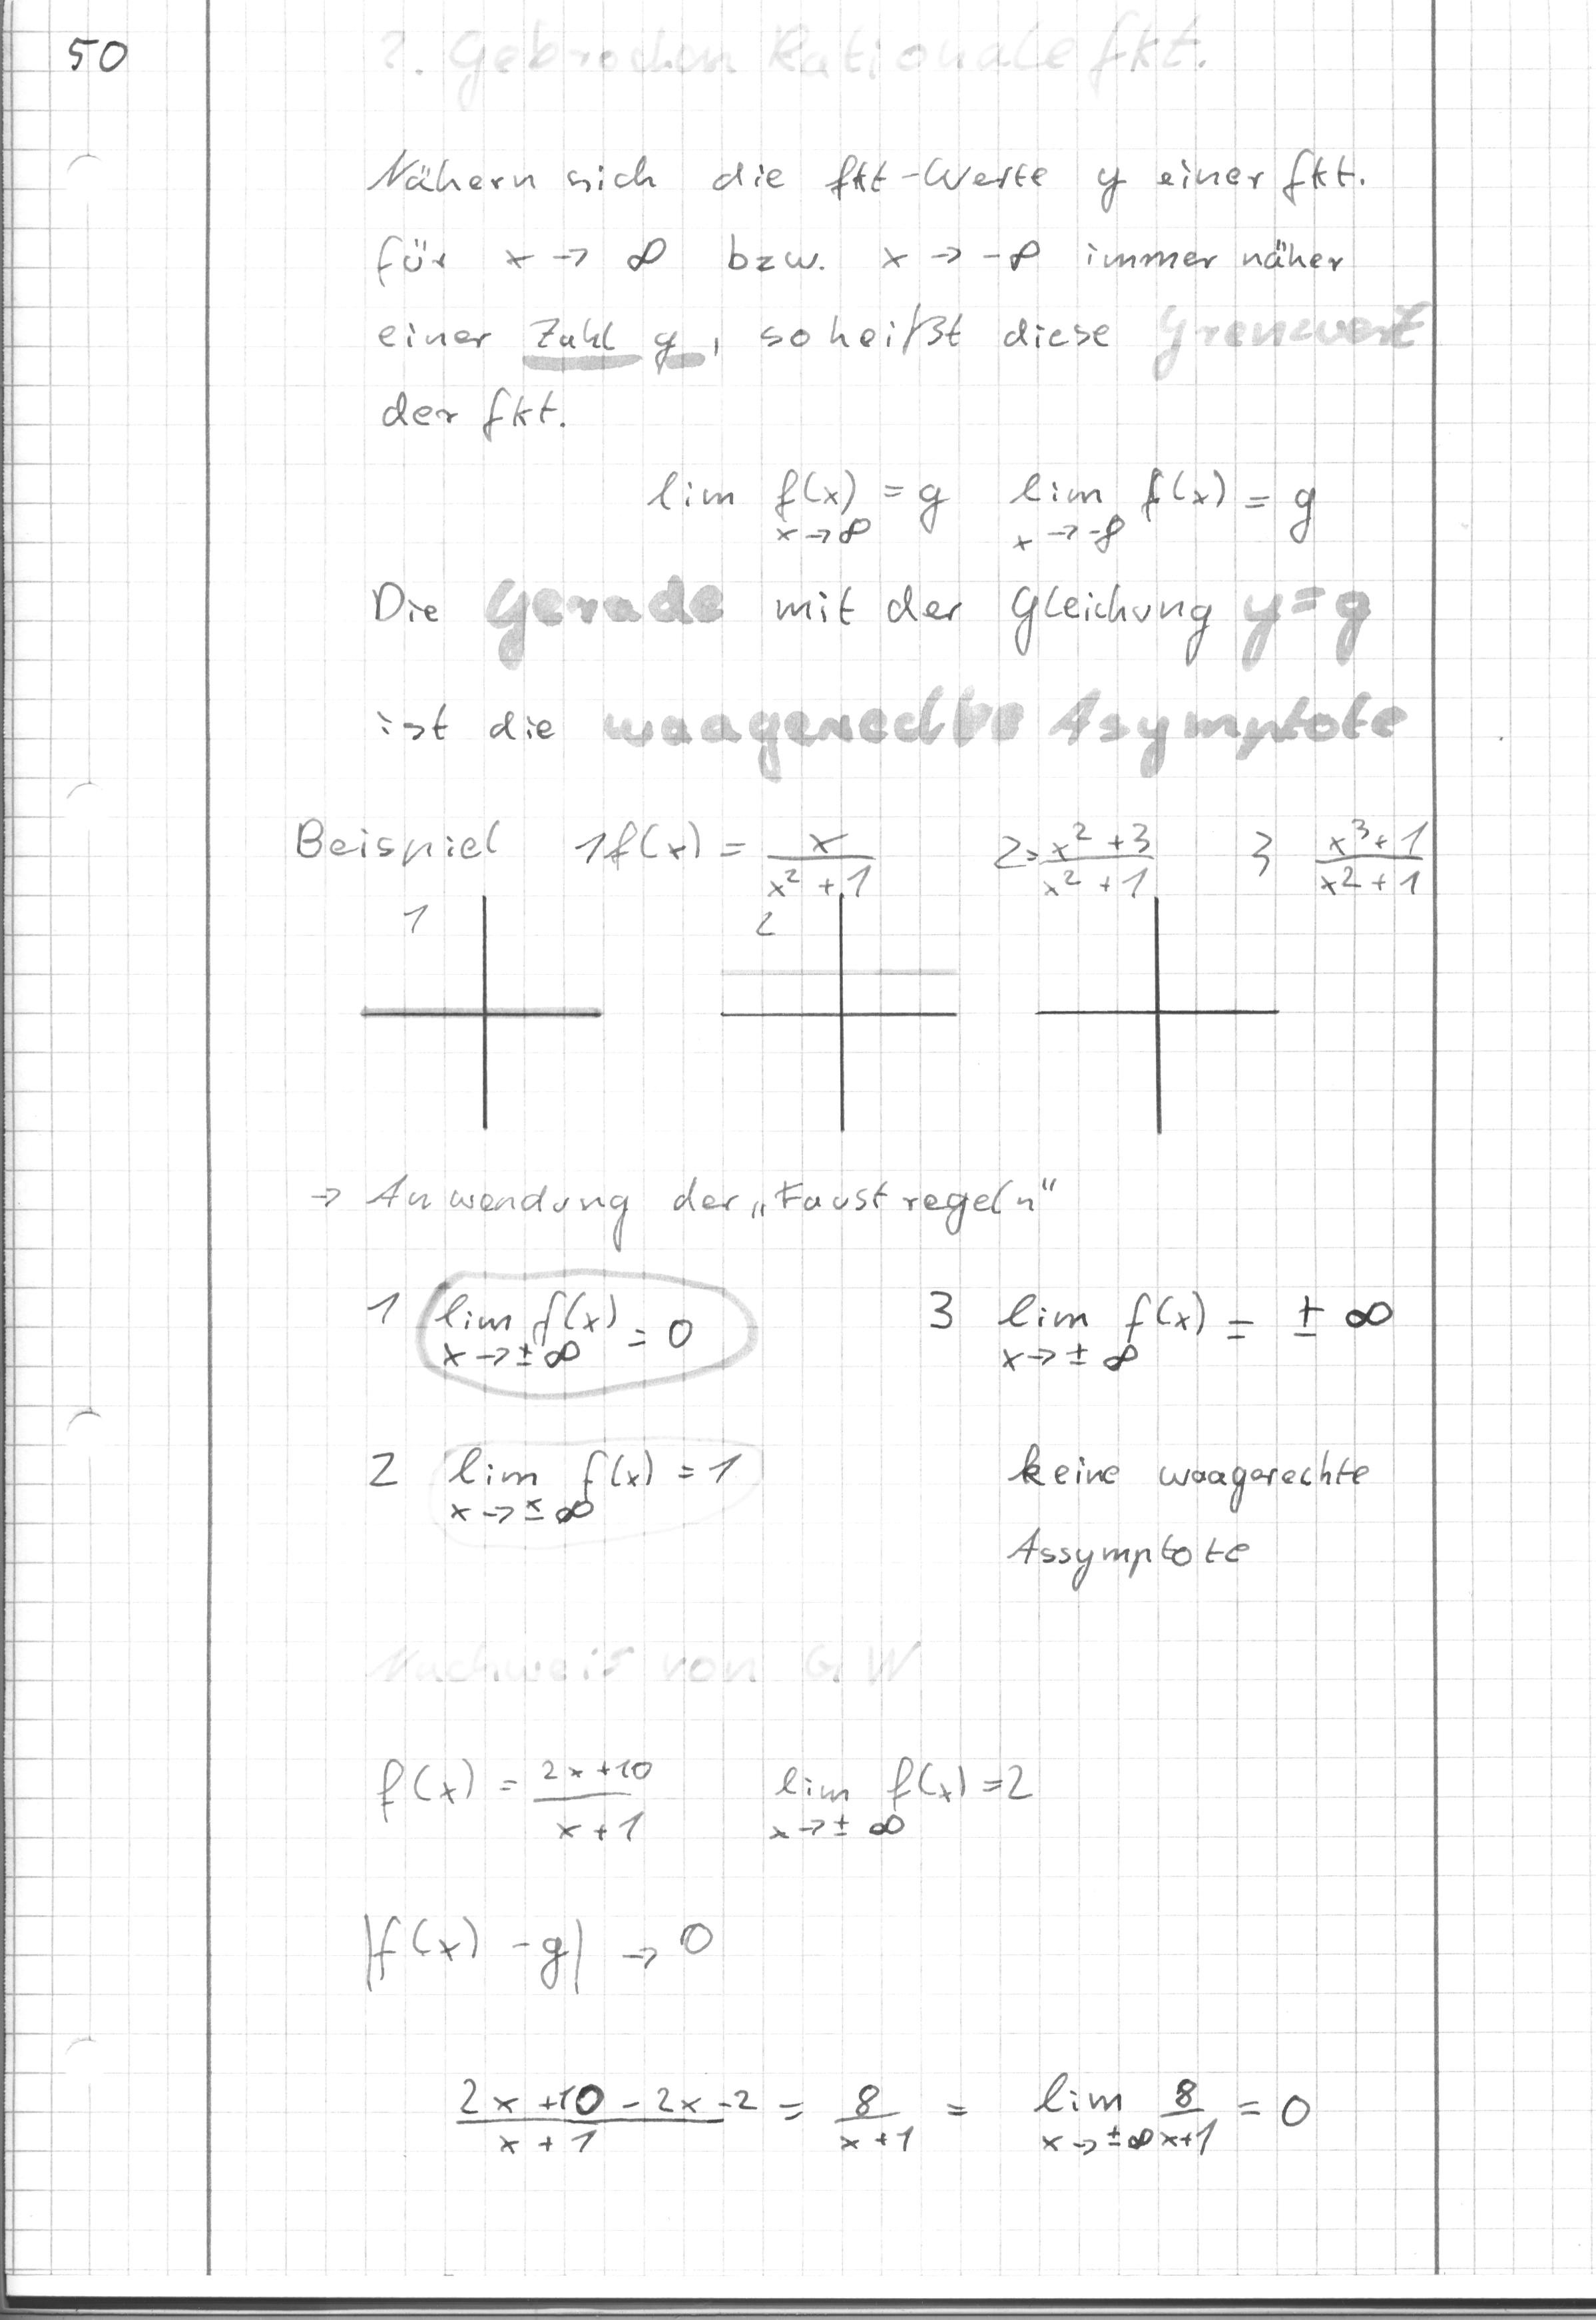word: (280, 797, 1450, 954), (350, 130, 1371, 294), (359, 1268, 780, 1552), (442, 2057, 1337, 2181), (366, 302, 1125, 441), (360, 1742, 1048, 1862), (297, 1159, 1093, 1260), (635, 455, 1322, 559), (993, 1432, 1384, 1601), (922, 1278, 1410, 1387), (342, 1892, 736, 2022), (764, 565, 1224, 677), (356, 683, 580, 772), (348, 563, 462, 647)
